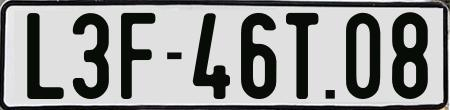0: (344, 10, 383, 101)
3: (70, 10, 107, 101)
4: (190, 10, 228, 100)
6: (240, 13, 279, 101)
8: (390, 12, 426, 101)
F: (121, 10, 159, 97)
L: (24, 12, 63, 104)
T: (285, 11, 318, 103)
